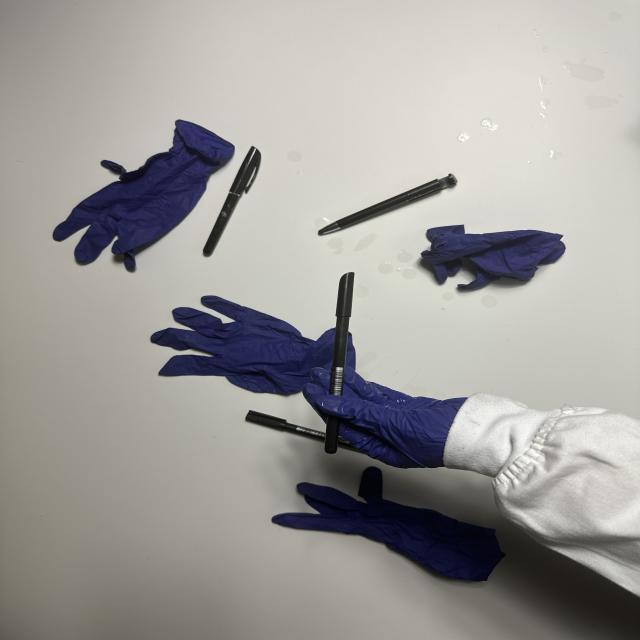gloves_contaminated: (303, 367, 467, 468)
